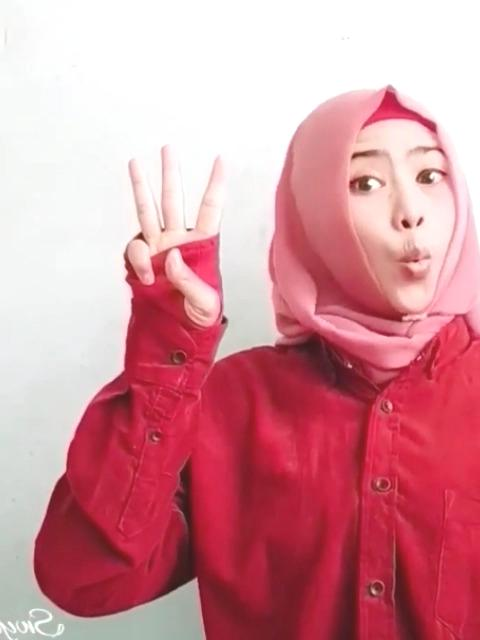W: (116, 140, 236, 340)
